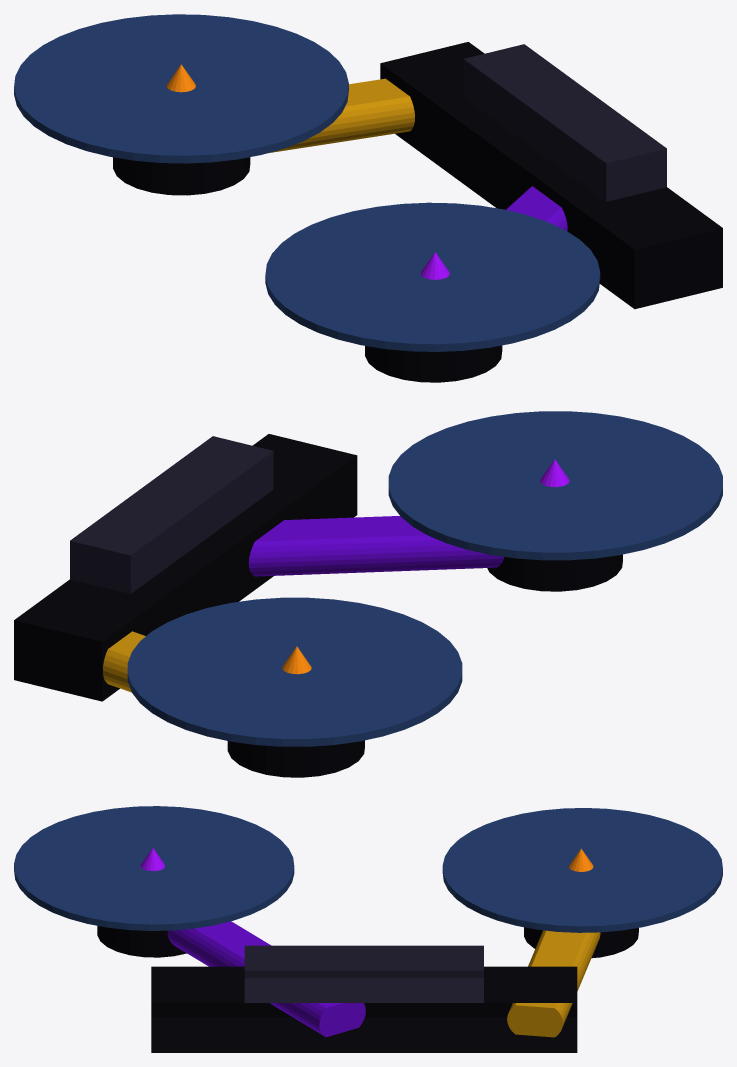
File: quadfpv9.obj
3 views of the same model, one above another, from view 1: azimuth 30°, elevation 25°; view 2: azimuth 150°, elevation 25°; view 3: azimuth 270°, elevation 25° (orthographic). The views are drawn at different scales.
Parts seen in each view (by area): view 1: Prop, Prop.001, Body, Body_Top, Fore_arm, Motor, Motor.001, Aft_Arm; view 2: Prop, Prop.001, Body, Body_Top, Aft_Arm, Motor, Motor.001, Fore_arm; view 3: Prop, Prop.001, Body, Body_Top, Aft_Arm, Fore_arm, Motor.001, Motor.
Boxes of the visible parts, x1,y1,x2,y2 form: Prop: (14,14,348,163); Prop.001: (265,202,600,351); Body: (380,42,722,309); Body_Top: (463,44,666,201); Fore_arm: (268,78,414,153); Motor: (113,157,250,195); Motor.001: (365,345,502,382); Aft_Arm: (506,186,567,231); Prop: (127,597,462,746); Prop.001: (388,411,722,560); Body: (14,434,357,701); Body_Top: (70,436,273,593); Aft_Arm: (248,516,503,576); Motor: (227,740,364,777); Motor.001: (487,554,622,591); Fore_arm: (103,631,145,692); Prop: (442,808,722,932); Prop.001: (14,806,294,930); Body: (151,966,577,1052); Body_Top: (244,945,483,1002); Aft_Arm: (167,921,365,1037); Fore_arm: (507,930,600,1037); Motor.001: (97,926,186,957); Motor: (524,927,638,958).
Bounding box in the file's own units: 0.1518 × 0.0352 × 0.2568.
